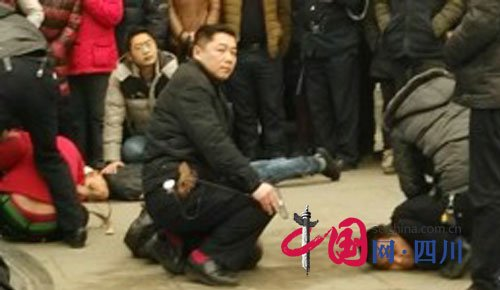10+: (1, 1, 500, 290)
down: (75, 143, 344, 202), (353, 184, 463, 270)
